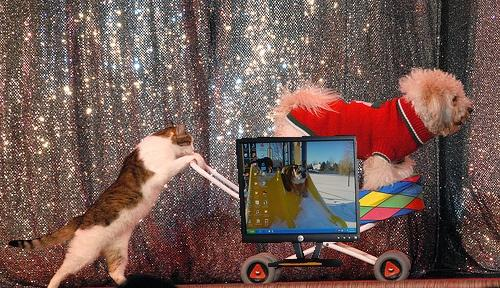tampered: (237, 136, 360, 267)
